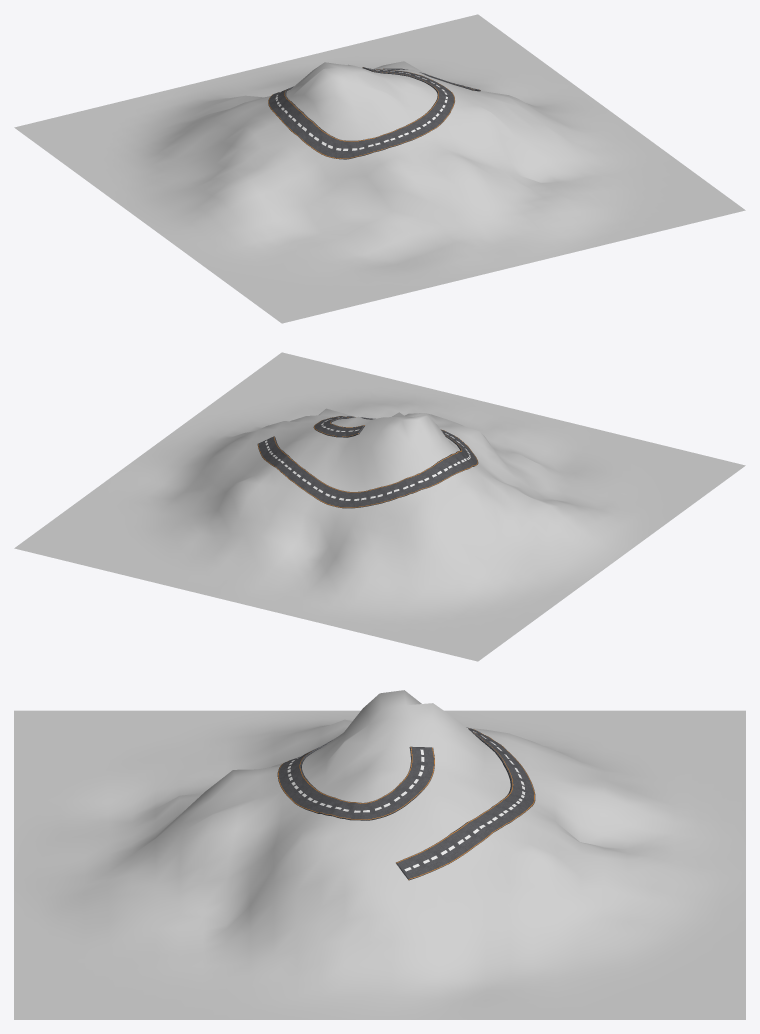
Rendered from Level9B2.fbx.
3 views of the same model, one above another, from view 1: azimuth 30°, elevation 25°; view 2: azimuth 150°, elevation 25°; view 3: azimuth 270°, elevation 25° (orthographic). The views are drawn at different scales.
Parts seen in each view (by area): view 1: Landscape, Plane; view 2: Landscape, Plane; view 3: Landscape, Plane.
Part boxes in pixels (x1,y1,x2,y2): Landscape: [14, 14, 745, 323]; Plane: [268, 67, 480, 159]; Landscape: [14, 352, 745, 661]; Plane: [257, 416, 478, 508]; Landscape: [14, 690, 745, 1019]; Plane: [277, 727, 535, 880].
Bounding box in the file's own units: 9957 × 2236 × 9957.
